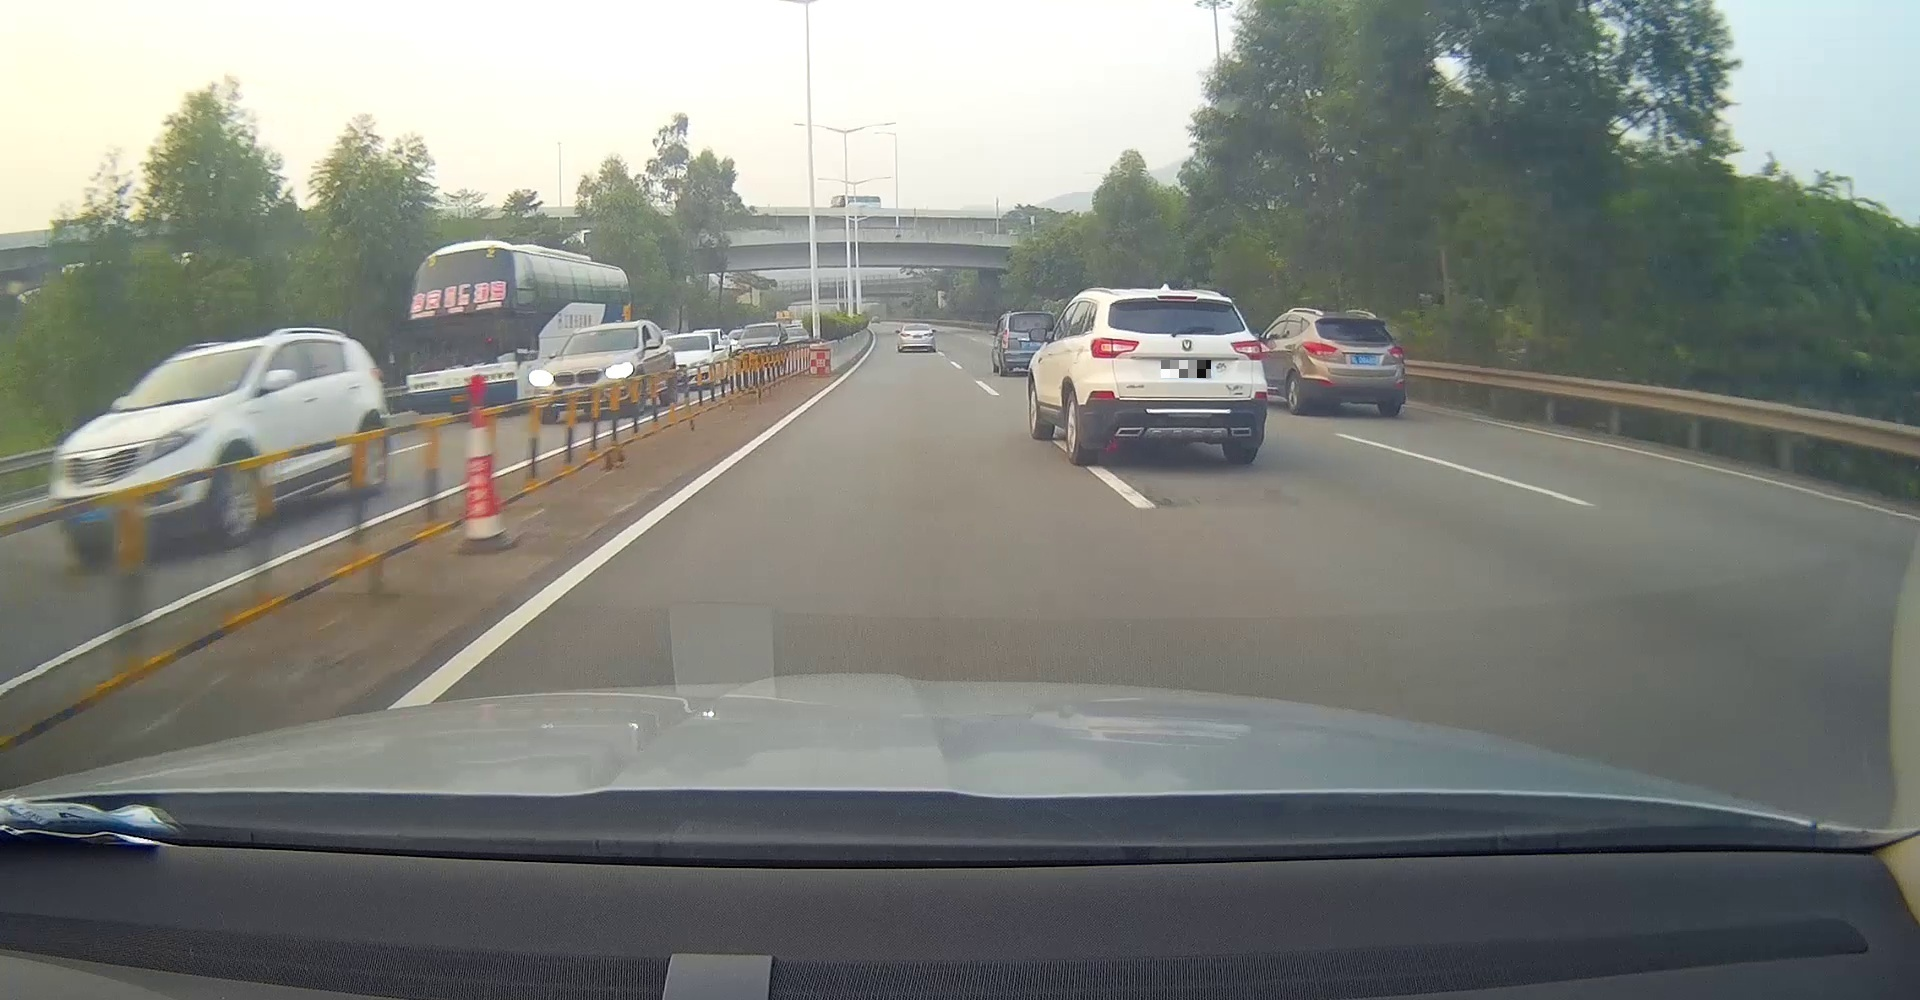L_light: (1090, 339, 1138, 358), (1302, 341, 1337, 355), (900, 332, 910, 338)
R_light: (1232, 340, 1263, 360), (1387, 345, 1404, 357), (924, 332, 933, 336)
T_light: (1158, 296, 1197, 302), (1345, 319, 1364, 324), (916, 325, 921, 327)
day-left: (1084, 288, 1269, 466)
day-no: (1299, 310, 1408, 415), (897, 324, 936, 354)
plate_1: (1161, 360, 1211, 378)
